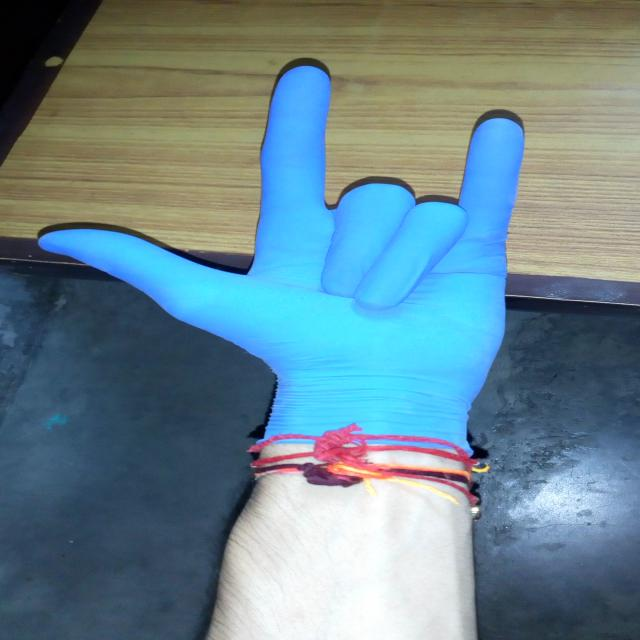Boots: (17, 23, 570, 463)
